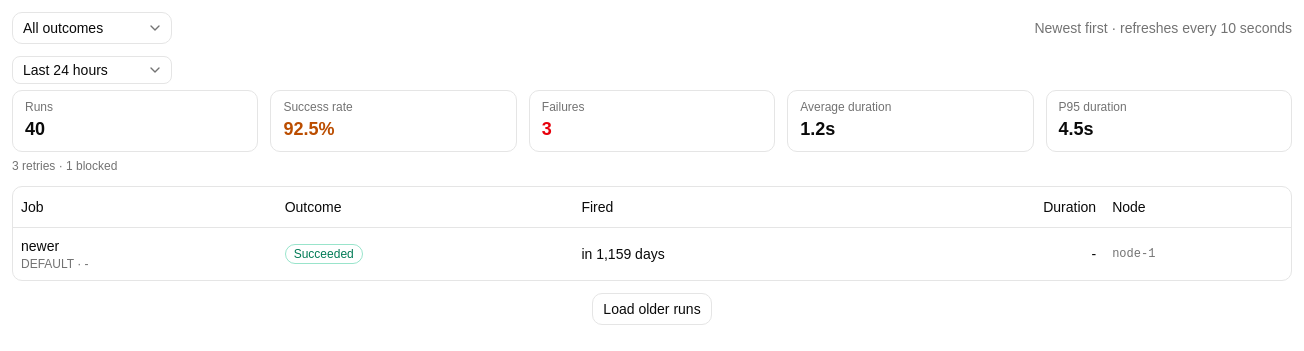
Test case: HistoryTable › loads older runs
This screenshot has width=1304, height=351.
Click the button "Load older runs". click: [652, 308]
box: [592, 292, 712, 324]
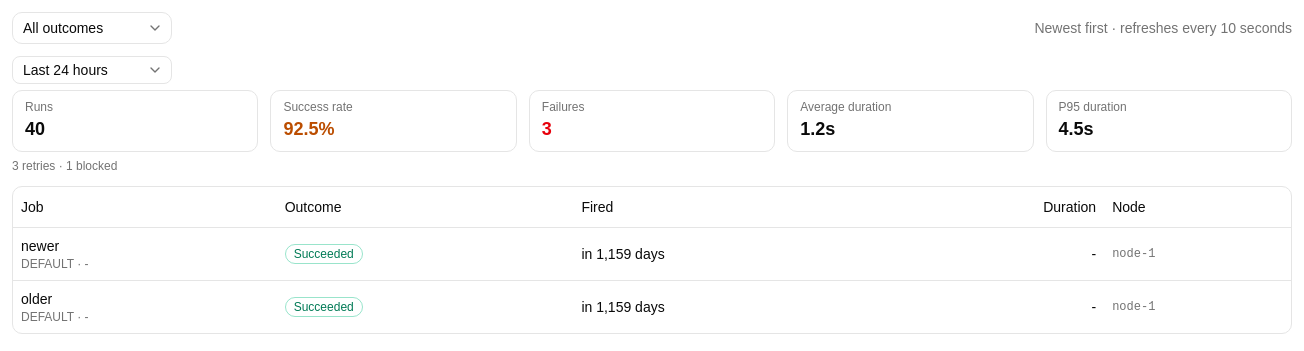
Check: the button "older" is shown, box [21, 288, 52, 308]
Check: the button "Load older runs" is gone
